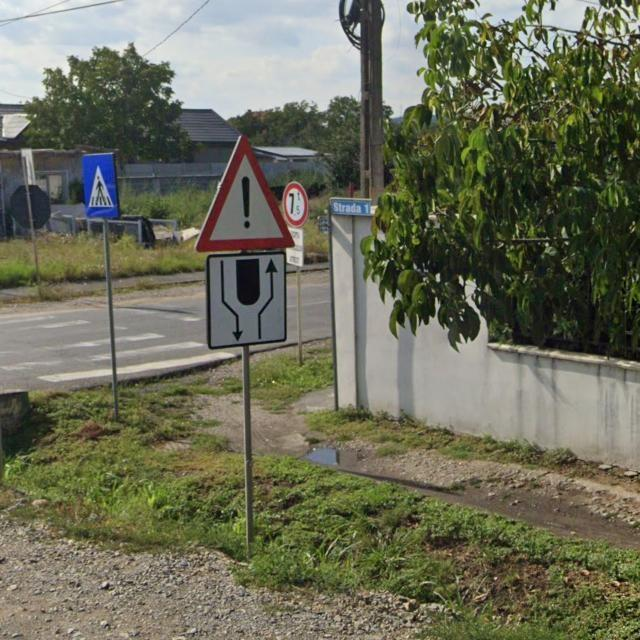info_crosswalk: (82, 154, 119, 218)
